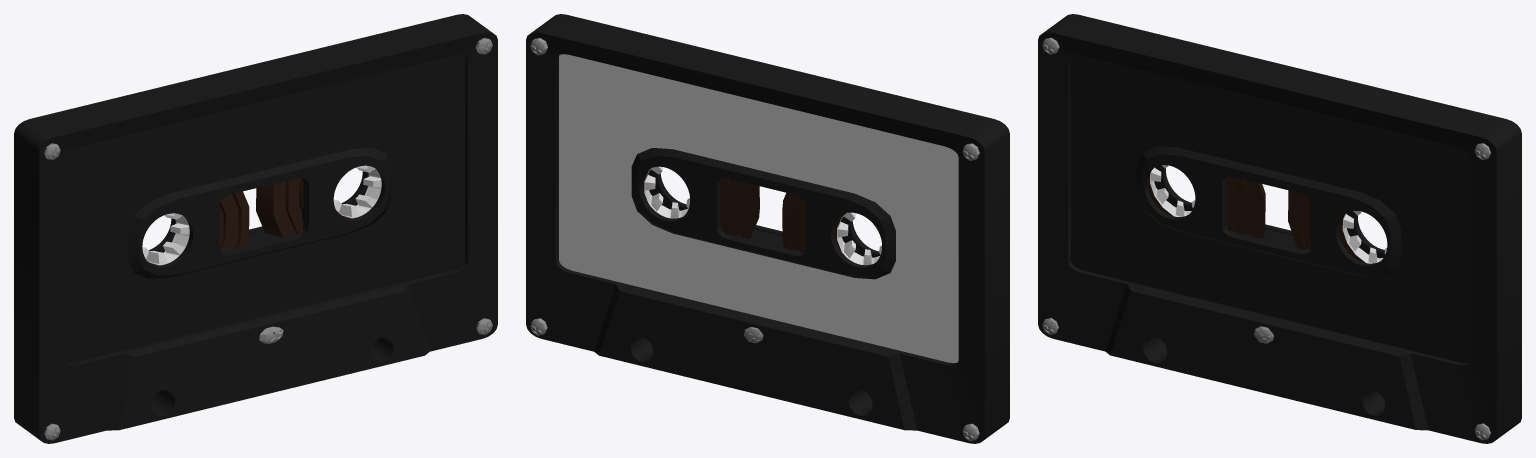
The model's file is simple_casette.glb.
3 views of the same model, side by side, from view 1: azimuth 30°, elevation 25°; view 2: azimuth 150°, elevation 25°; view 3: azimuth 330°, elevation 25° (orthographic).
Parts seen in each view (by area): view 1: cassete, detail1, wheel, wheel1, screw, detail2; view 2: cassete, detail2, wheel, wheel1, detail1, screw1; view 3: cassete, detail1, wheel1, wheel, detail2, screw.
Part boxes in pixels (<box>): cassete: <box>14,14,497,443</box>; detail1: <box>128,147,392,279</box>; wheel: <box>256,165,381,237</box>; wheel1: <box>142,191,249,265</box>; screw: <box>44,38,492,440</box>; detail2: <box>149,171,368,252</box>; cassete: <box>526,14,1009,443</box>; detail2: <box>631,148,895,279</box>; wheel: <box>643,166,759,239</box>; wheel1: <box>782,193,881,265</box>; detail1: <box>648,169,880,257</box>; screw1: <box>530,38,979,441</box>; cassete: <box>1038,14,1521,443</box>; detail1: <box>1136,146,1401,277</box>; wheel1: <box>1148,165,1265,239</box>; wheel: <box>1288,190,1387,263</box>; detail2: <box>1154,165,1385,258</box>; screw: <box>1042,37,1490,440</box>.
Size of the model in its own units: 5.35 by 3.41 by 0.7031.
